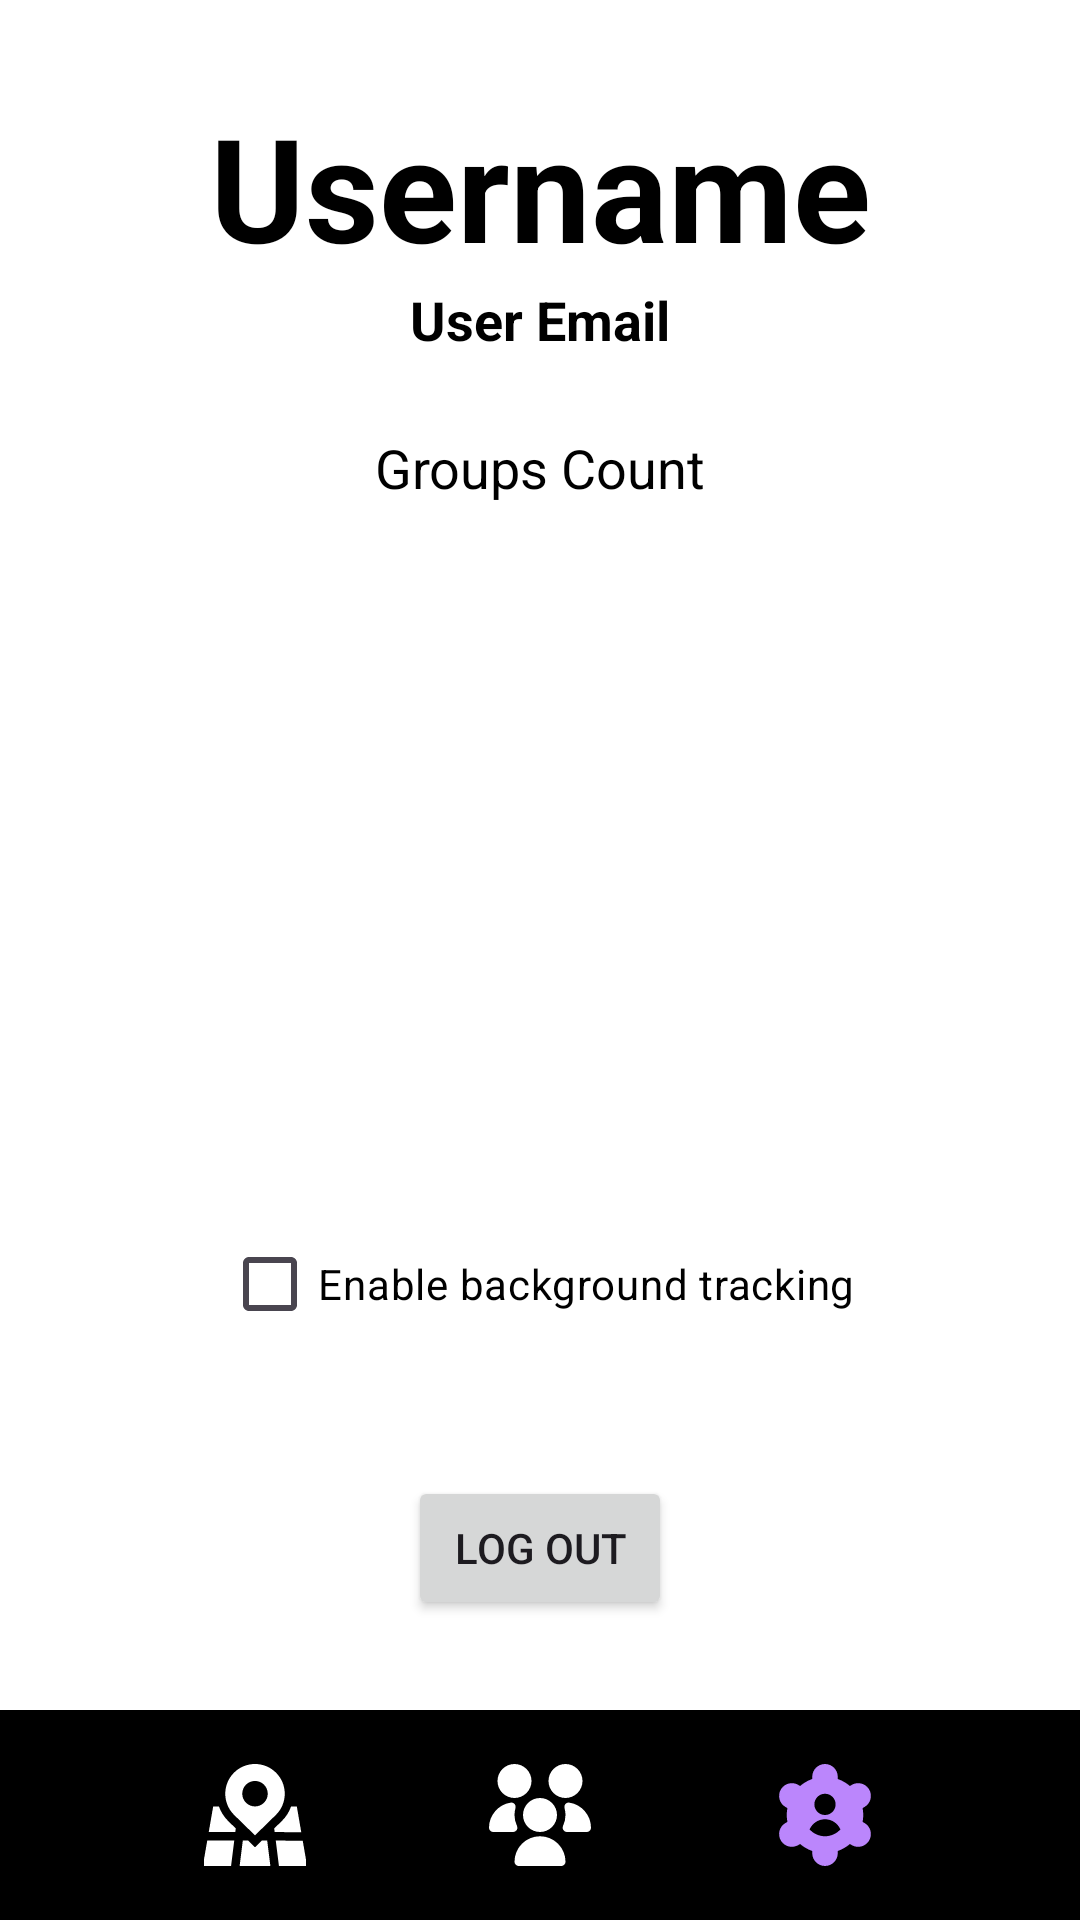

Icons on this 1080w x 1920h Android screen, each with the point to tap as [x,y]:
Map: [255,1815]
People: [540,1815]
Profile: [825,1815]
